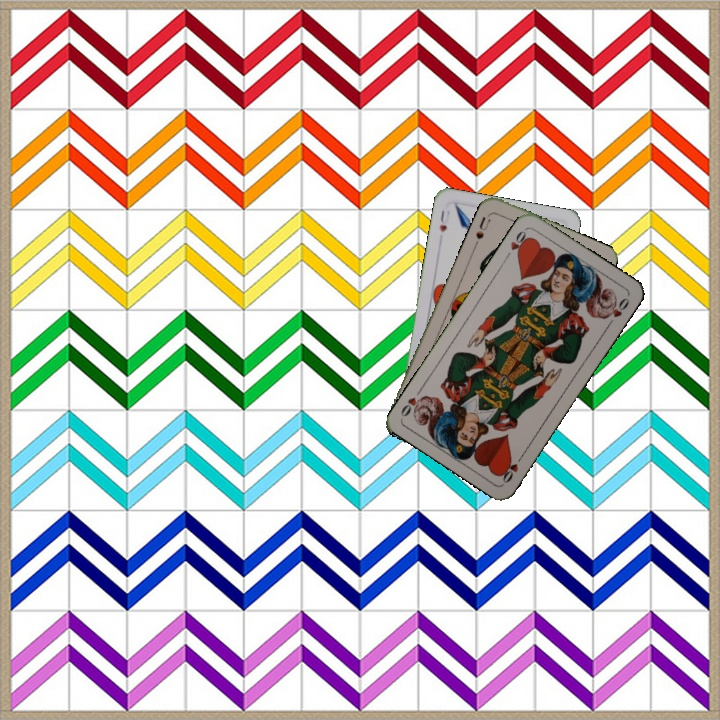HO: (501, 225, 532, 262), (497, 450, 527, 486)
HU: (435, 205, 452, 235)
SU: (472, 209, 494, 242)
